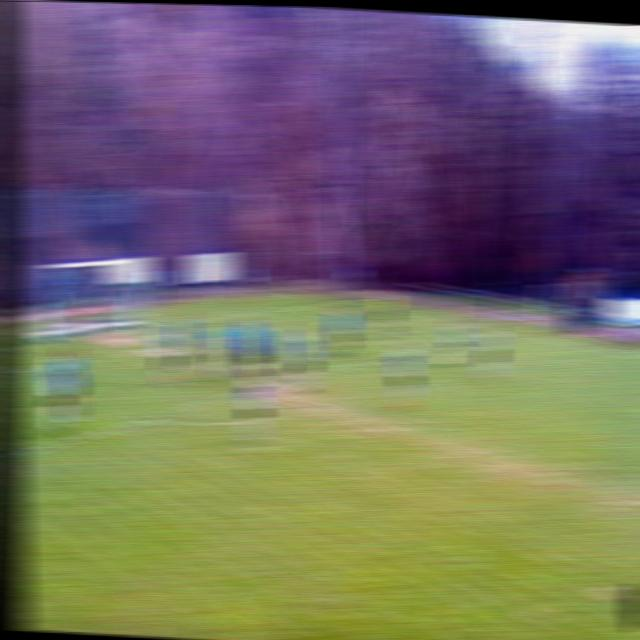bigarea_top_inner: (434, 332, 456, 354)
bigarea_top_outter: (283, 301, 304, 313)
bottom_arc_area_intersection: (132, 393, 167, 444)
corner: (344, 350, 371, 376), (346, 295, 365, 307)
smallarea_bottom_inner: (10, 365, 40, 388)
smallarea_top_outter: (187, 311, 208, 330)
